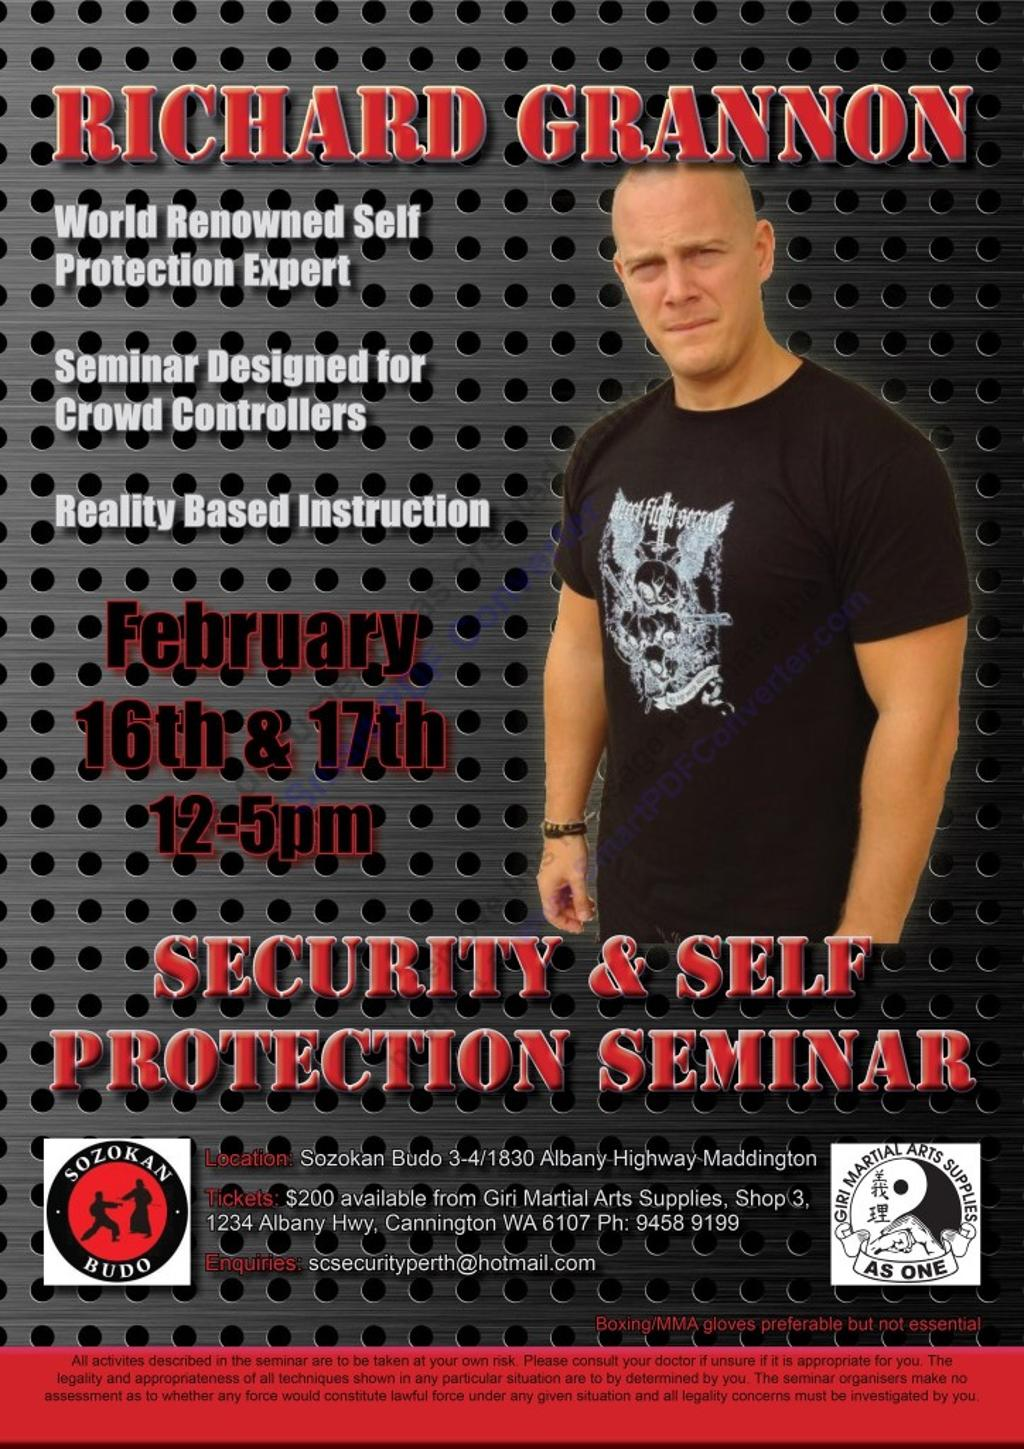face: (614, 173, 755, 382)
